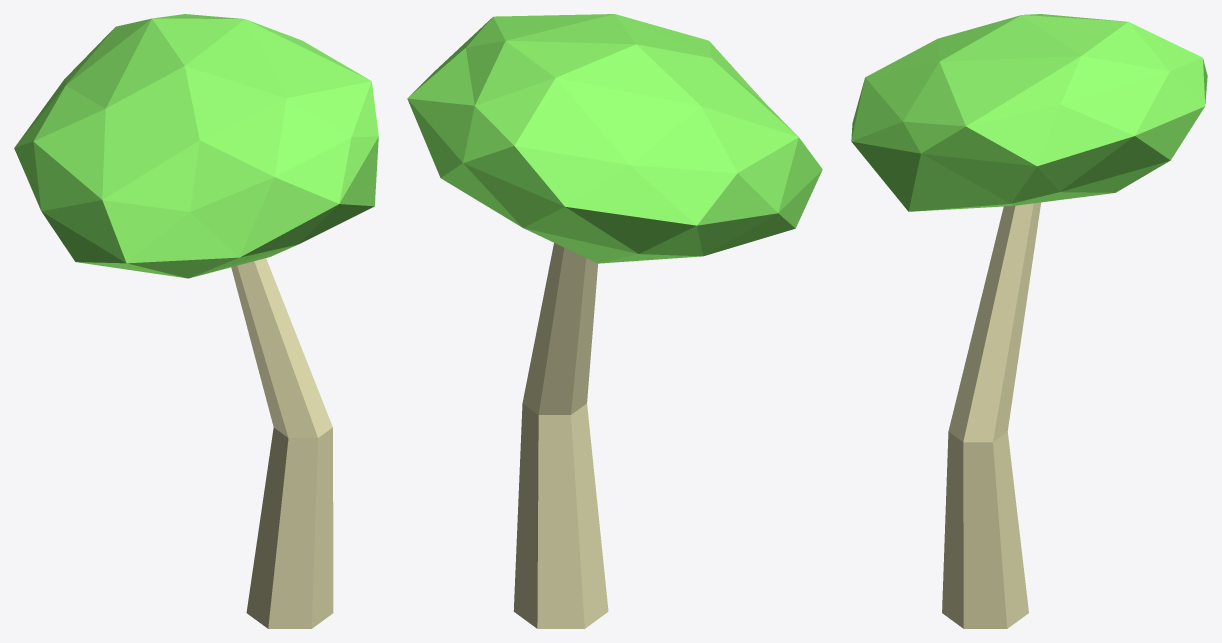
File: eucalyptus_level0.glb
3 renders of one model, left to right at view 1: azimuth 30°, elevation 25°; view 2: azimuth 150°, elevation 25°; view 3: azimuth 270°, elevation 25°, orthographic. The views are drawn at different scales.
Parts seen in each view (by area): view 1: 棱角球.005; view 2: 棱角球.005; view 3: 棱角球.005.
Part boxes in pixels (box(x1,y1,x2,y2)): 棱角球.005: box(14, 14, 378, 628); 棱角球.005: box(407, 14, 822, 628); 棱角球.005: box(851, 14, 1207, 628).
Size of the model in its own units: 5.14 by 8.68 by 5.02.
